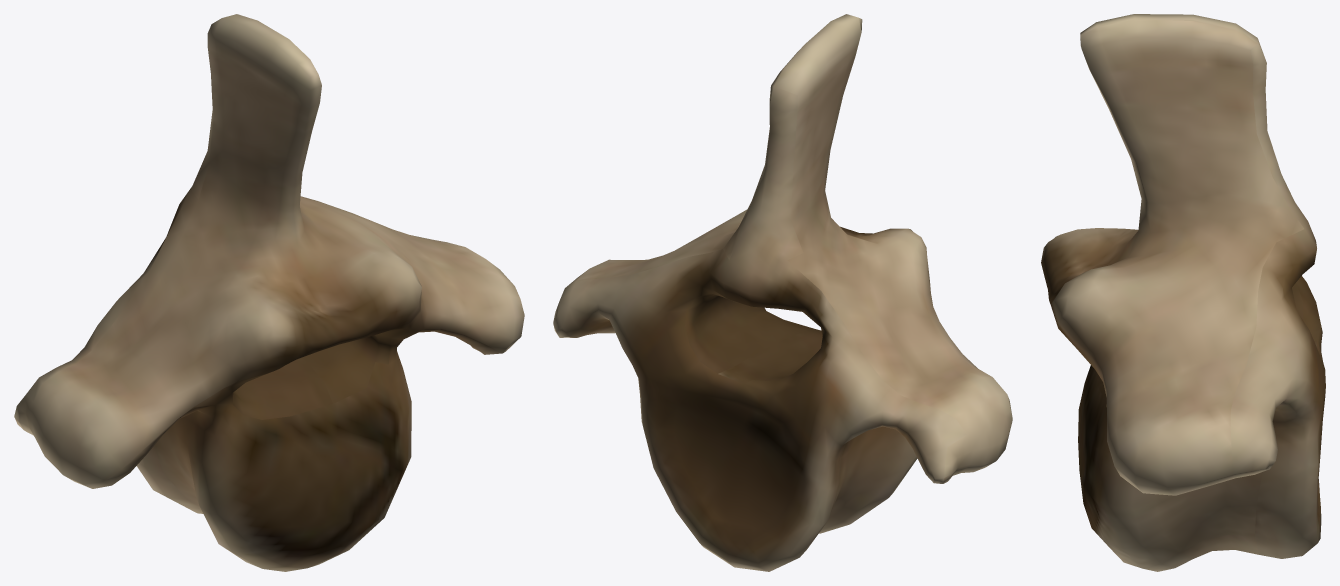
The model's file is Thoracic_Vertebrae17.glb.
The picture shows the model from 3 angles, left to right: view 1: azimuth 30°, elevation 25°; view 2: azimuth 150°, elevation 25°; view 3: azimuth 270°, elevation 25°; orthographic projection. The views are drawn at different scales.
Visible parts, largest first — view 1: Horse_low:SelSet_52Merged_L_Frt_Sesamoid_Bones_1; view 2: Horse_low:SelSet_52Merged_L_Frt_Sesamoid_Bones_1; view 3: Horse_low:SelSet_52Merged_L_Frt_Sesamoid_Bones_1.
Boxes of the visible parts, <box> form: Horse_low:SelSet_52Merged_L_Frt_Sesamoid_Bones_1: <box>14,14,524,571</box>; Horse_low:SelSet_52Merged_L_Frt_Sesamoid_Bones_1: <box>553,14,1012,571</box>; Horse_low:SelSet_52Merged_L_Frt_Sesamoid_Bones_1: <box>1041,14,1325,571</box>.
Bounding box in the file's own units: 0.1145 × 0.1301 × 0.0625.
1 material, 1 textured.
